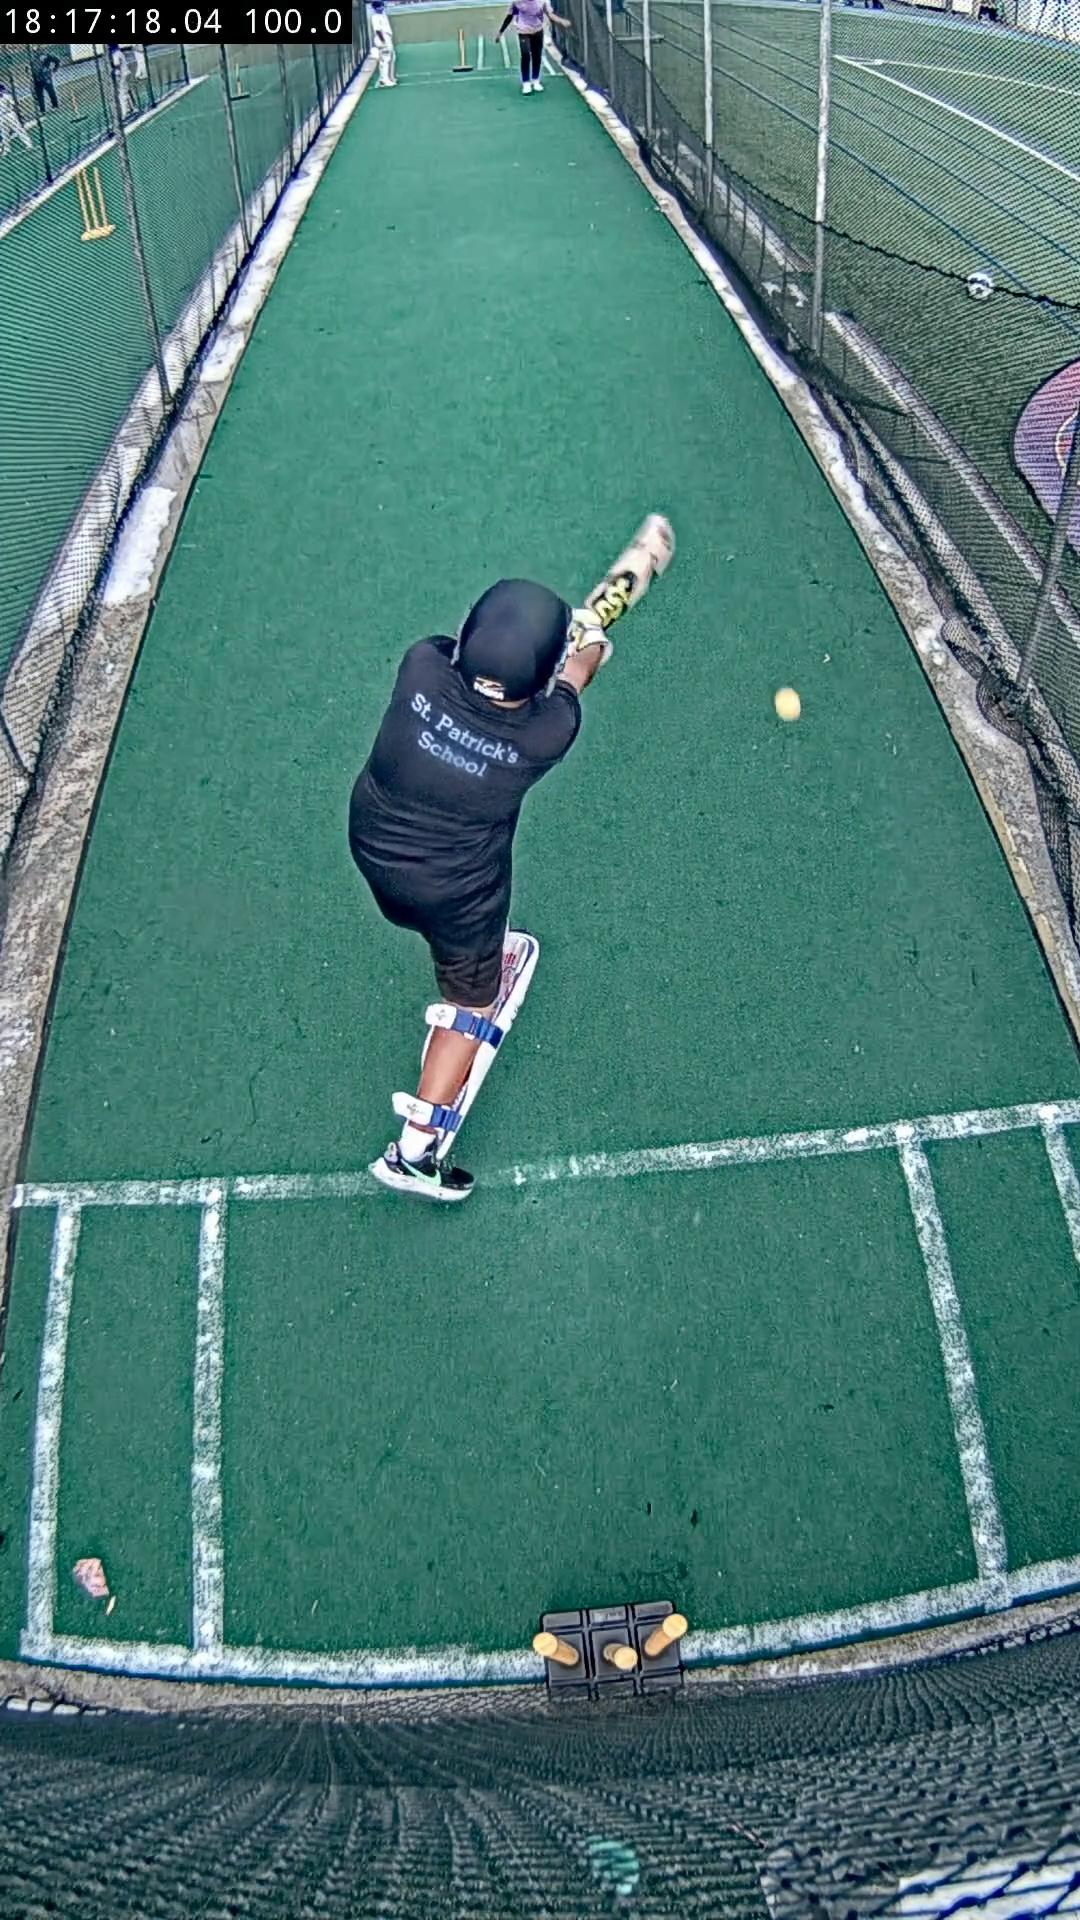ball: (773, 686, 803, 720)
bat: (582, 514, 675, 630)
gloves: (566, 608, 615, 662)
helmet: (454, 578, 570, 702)
pads: (435, 930, 541, 1159)
stumps: (533, 1601, 686, 1697)
